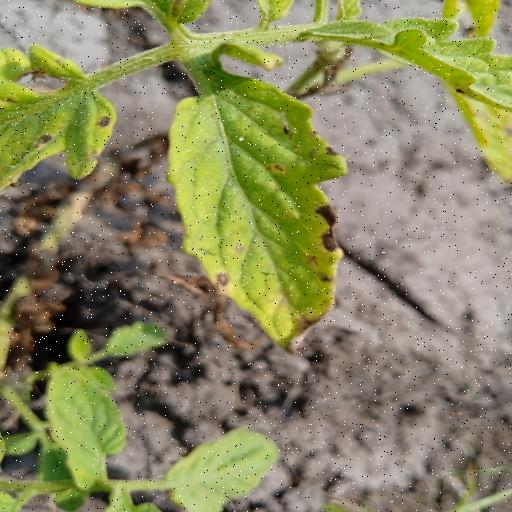Tomato_Brown_Spots: (165, 76, 352, 355)
